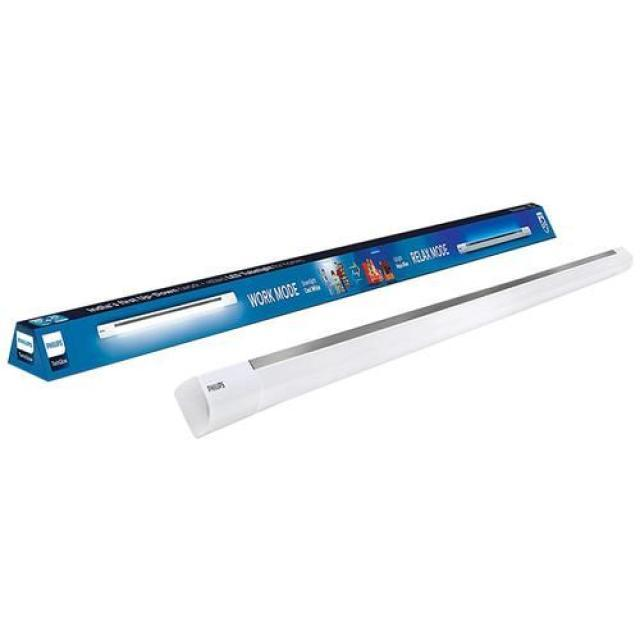tubelight_off: (169, 237, 640, 452), (455, 221, 537, 258)
tubelight_on: (95, 285, 248, 346)
